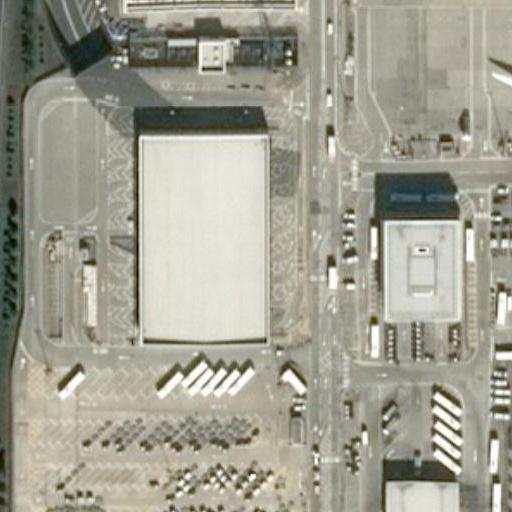Aircraft: (488, 24, 512, 136)
